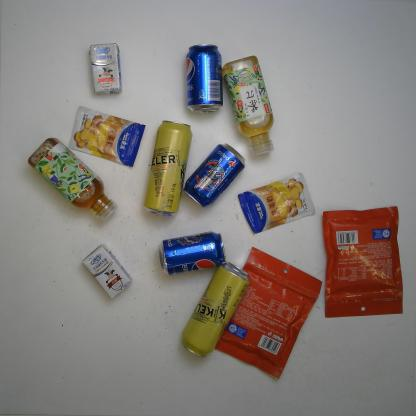Alcohol: (176, 261, 253, 363), (141, 118, 194, 219)
Dried Fruit: (209, 245, 326, 382), (322, 205, 405, 321)
Drink: (26, 134, 121, 223), (219, 52, 279, 159), (180, 142, 246, 209), (154, 228, 228, 279), (183, 40, 228, 115)
Milk: (80, 242, 131, 302), (88, 40, 122, 97)
Seasoner: (235, 167, 317, 236), (66, 104, 147, 169)
